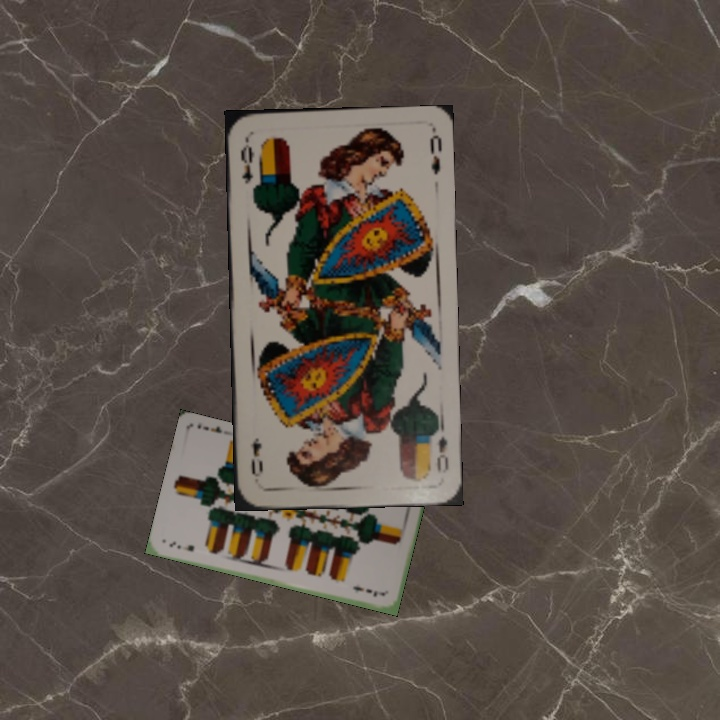E7: (165, 537, 197, 554)
EO: (426, 420, 452, 476), (236, 135, 256, 186)
